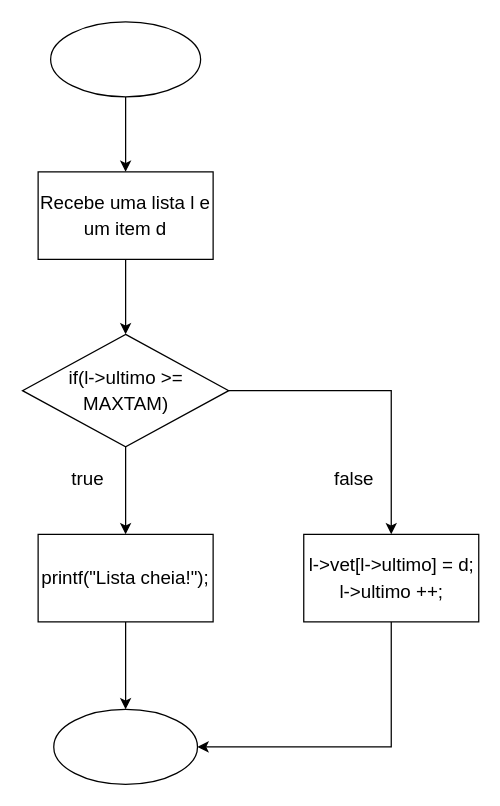
Some shapes in this 500 by 806 pixel diagram are drawn without their labels. The centre of each missing label's shape, as x and y in pixels:
"FIM" belongs at pixel 125 746.
"INICIO" belongs at pixel 125 59.
